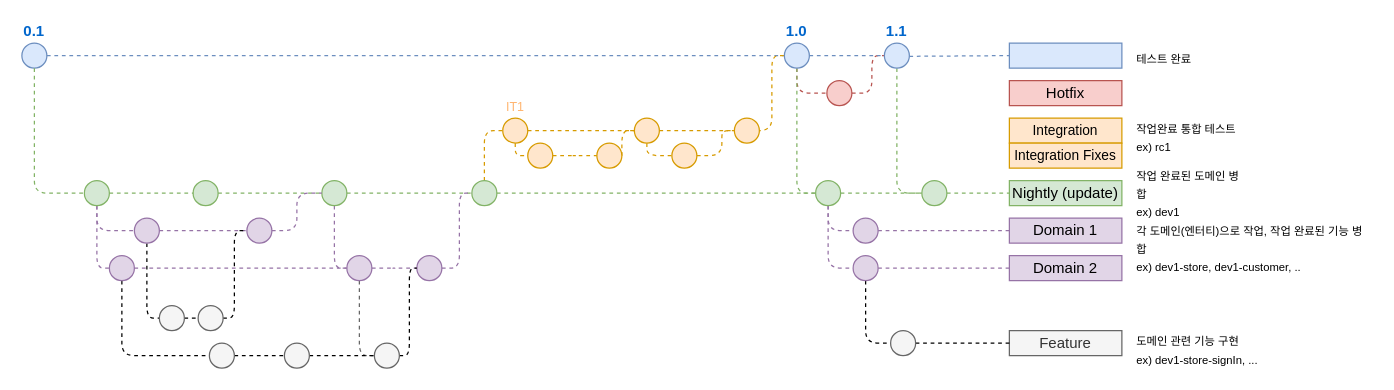
The diagram is 1394 pixels wide and 390 high, and some of its shapes have lost their labels. Here are the shapes that lost their labels. From the top down, the box of each, then its label:
(1008, 42, 1122, 68): Main
(633, 117, 659, 143): IT2
(733, 117, 759, 143): IT3
